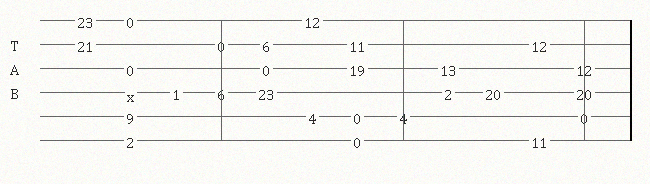0: (126, 61, 138, 75), (126, 13, 138, 27), (217, 37, 229, 51), (262, 61, 274, 75), (353, 133, 365, 147), (353, 109, 365, 123), (580, 109, 592, 123)
1: (172, 85, 184, 99)
11: (349, 37, 369, 51), (531, 133, 551, 147)
12: (304, 13, 324, 27), (531, 37, 551, 51), (576, 61, 596, 75)
13: (440, 61, 460, 75)
19: (349, 61, 369, 75)
2: (126, 133, 138, 147), (444, 85, 456, 99)
20: (485, 85, 505, 99), (576, 85, 596, 99)
21: (77, 37, 97, 51)
23: (77, 13, 97, 27), (258, 85, 278, 99)
4: (308, 109, 320, 123), (399, 109, 411, 123)
6: (217, 85, 229, 99), (262, 37, 274, 51)
9: (126, 109, 138, 123)
x: (127, 87, 138, 98)
